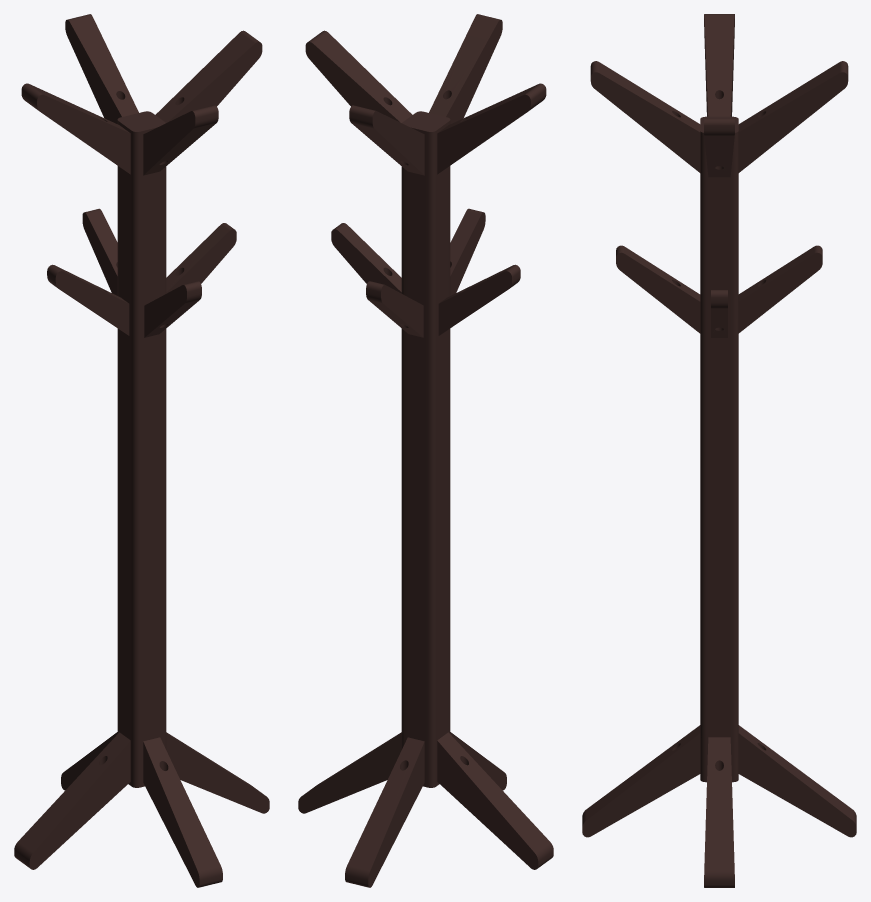
File: PorteManteau1_5.fbx
3 views of the same model, side by side, from view 1: azimuth 30°, elevation 25°; view 2: azimuth 150°, elevation 25°; view 3: azimuth 270°, elevation 25° (orthographic).
Visible parts, largest first — view 1: polySurface47, polySurface48, polySurface50, polySurface51, polySurface49; view 2: polySurface47, polySurface48, polySurface50, polySurface49, polySurface51; view 3: polySurface47, polySurface51, polySurface49, polySurface50.
Part boxes in pixels (<box>): polySurface47: <box>14,14,269,887</box>; polySurface48: <box>47,264,129,335</box>; polySurface50: <box>166,223,236,293</box>; polySurface51: <box>144,281,201,337</box>; polySurface49: <box>82,208,117,295</box>; polySurface47: <box>298,14,553,887</box>; polySurface48: <box>438,264,520,335</box>; polySurface50: <box>331,223,401,293</box>; polySurface49: <box>366,281,423,337</box>; polySurface51: <box>450,208,485,295</box>; polySurface47: <box>582,14,856,887</box>; polySurface51: <box>616,245,700,333</box>; polySurface49: <box>738,245,822,333</box>; polySurface50: <box>711,290,727,337</box>.
Size of the model in its own units: 20.49 by 63.05 by 20.49.
